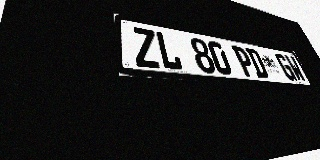0: (206, 40, 233, 75)
8: (189, 37, 217, 74)
D: (244, 47, 270, 78)
G: (274, 53, 297, 81)
L: (154, 31, 184, 71)
P: (231, 45, 257, 77)
W: (284, 55, 307, 82)
Z: (131, 26, 161, 69)
